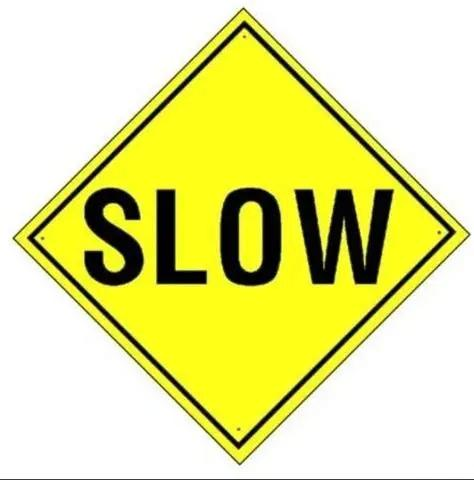Slow: (28, 19, 454, 449)
